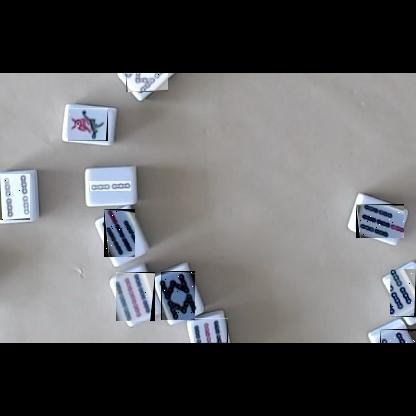1s: (68, 108, 108, 141)
2s: (89, 181, 131, 191)
4s: (0, 174, 30, 220), (380, 329, 416, 343)
6s: (390, 269, 416, 317)
7s: (356, 204, 404, 238), (104, 209, 135, 257)
8s: (161, 271, 195, 320), (126, 73, 168, 92)
9s: (116, 272, 155, 321), (194, 318, 228, 343)
